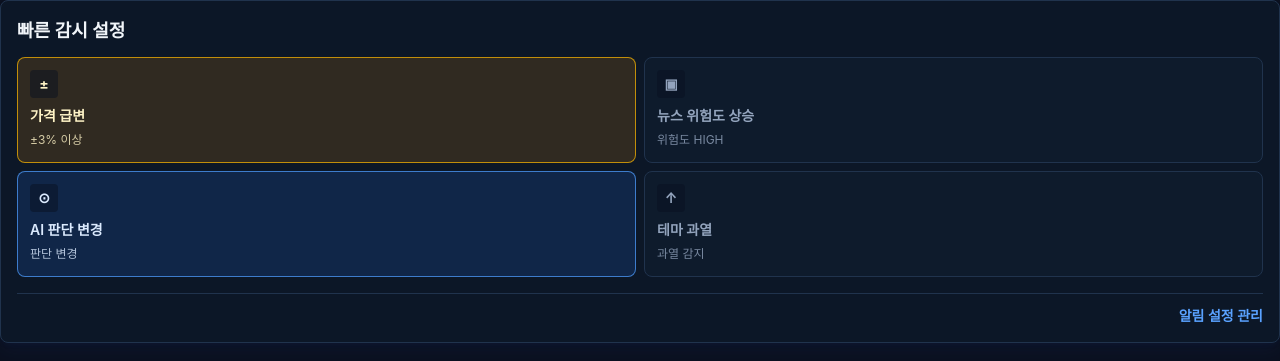
QuickWatchPanel › disables only the pending tile
Click the button "± 가격 급변 ±3% 이상".
click(58, 116)  # box [17,57,636,163]
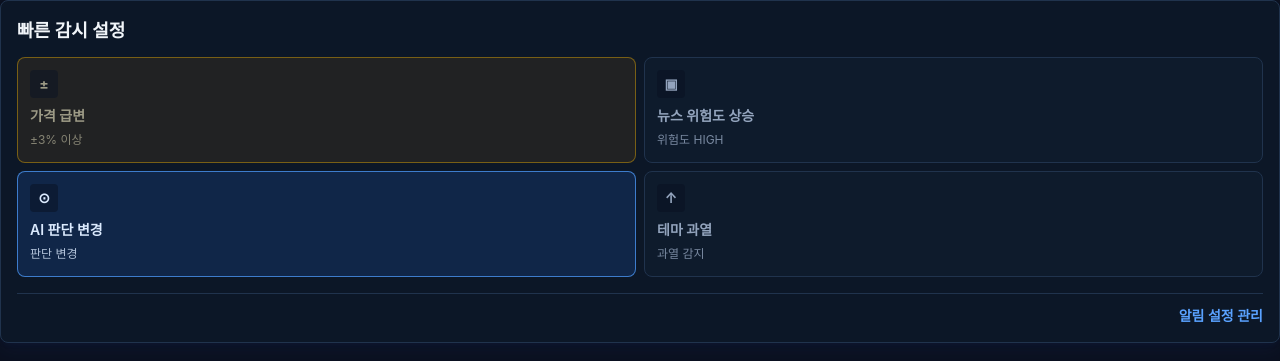
Expected: the button "▣ 뉴스 위험도 상승 위험도 HIGH" is enabled, [644,57,1263,163]
Expected: the button "± 가격 급변 ±3% 이상" is disabled, [17,57,636,163]
